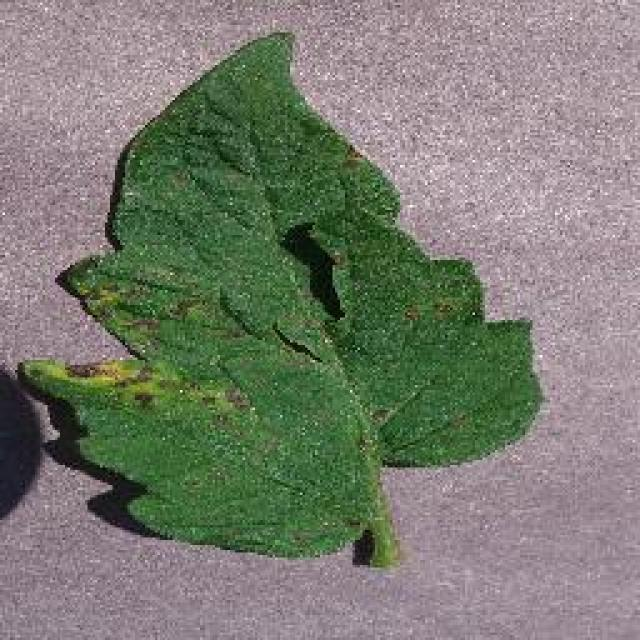Tomato___Septoria_leaf_spot: (20, 32, 538, 565)
